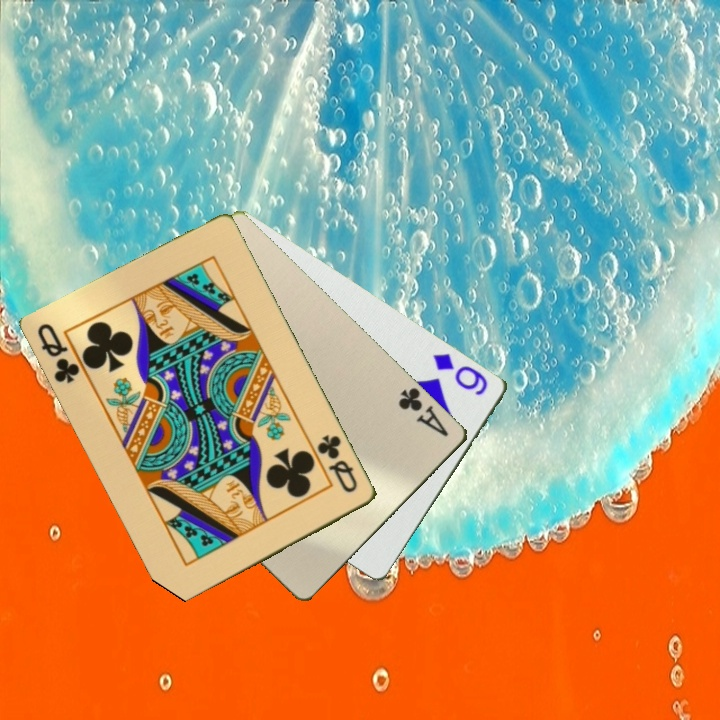6d: (430, 349, 492, 399)
Ac: (395, 383, 452, 440)
Qc: (33, 320, 83, 387), (314, 431, 361, 497)
